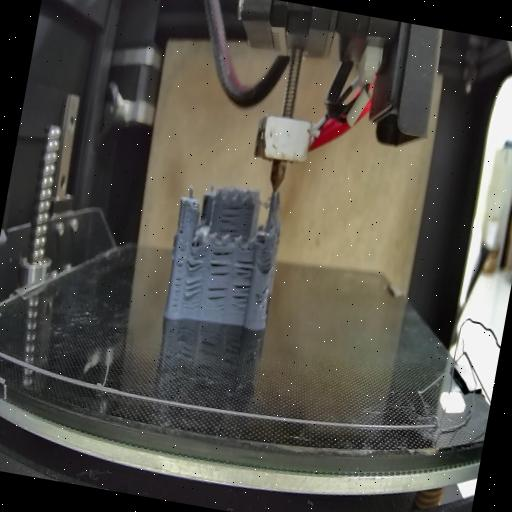cracks: (169, 248, 188, 310), (207, 245, 234, 280), (202, 282, 230, 314), (218, 201, 242, 236), (228, 280, 252, 314), (185, 245, 208, 275), (180, 277, 204, 302), (234, 254, 256, 280), (258, 249, 276, 273), (257, 280, 268, 302), (178, 220, 186, 238)
